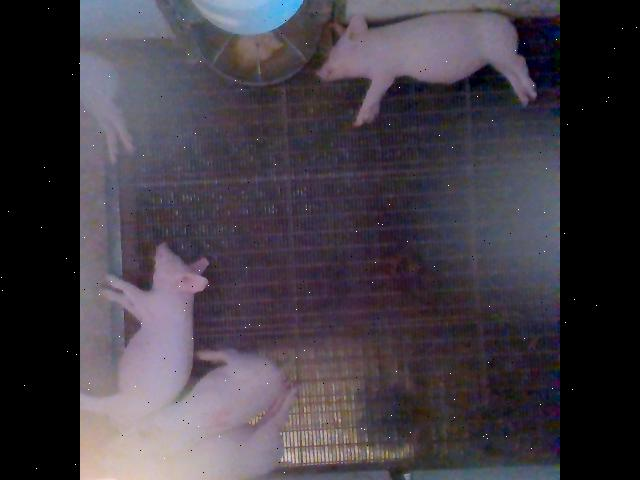pig-4: (103, 349, 284, 478)
